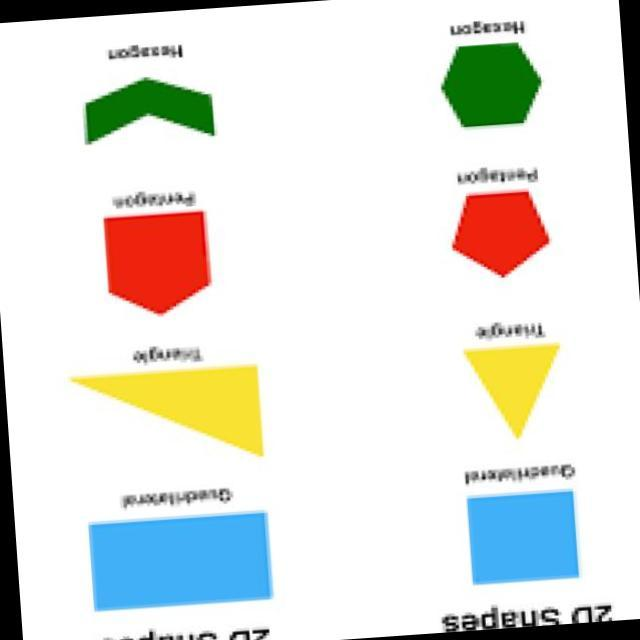square: (59, 502, 300, 624), (446, 479, 603, 602)
triangle: (49, 334, 292, 480), (442, 318, 580, 456)
